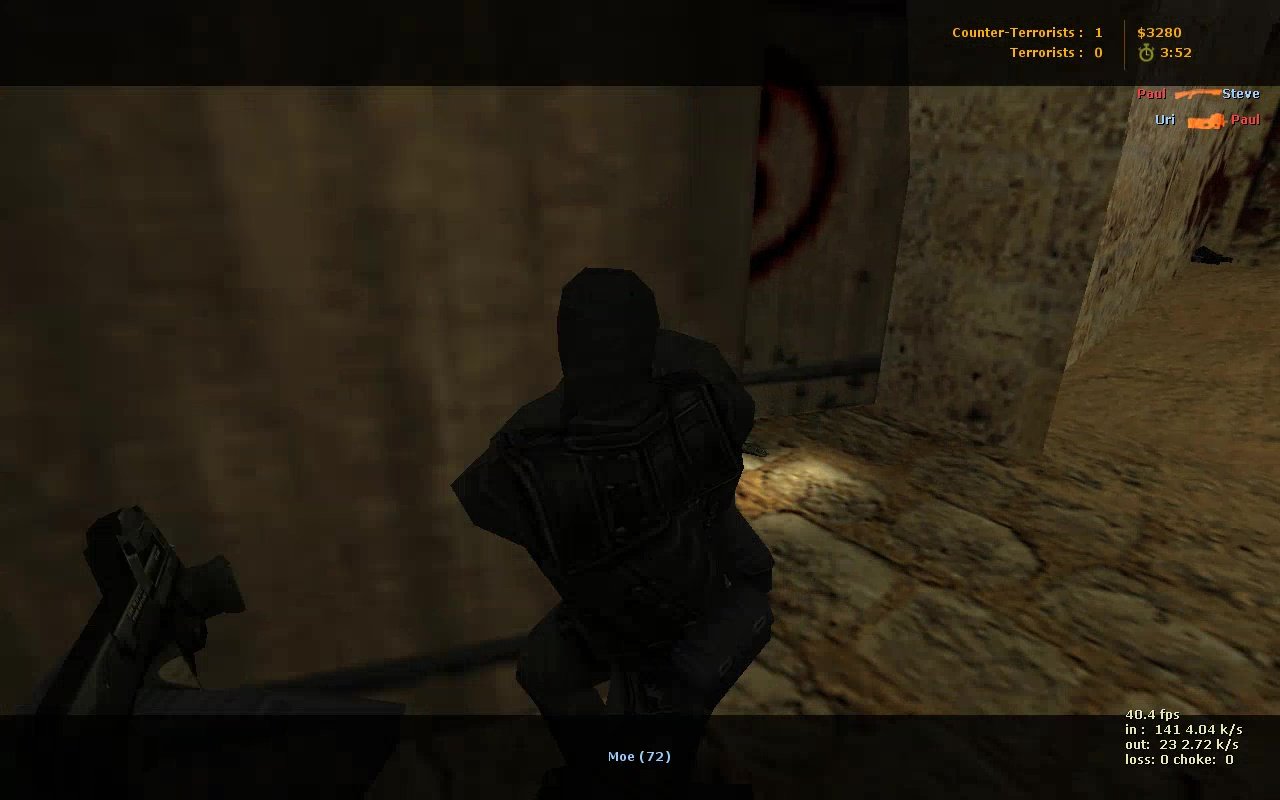ct: (428, 261, 793, 739)
